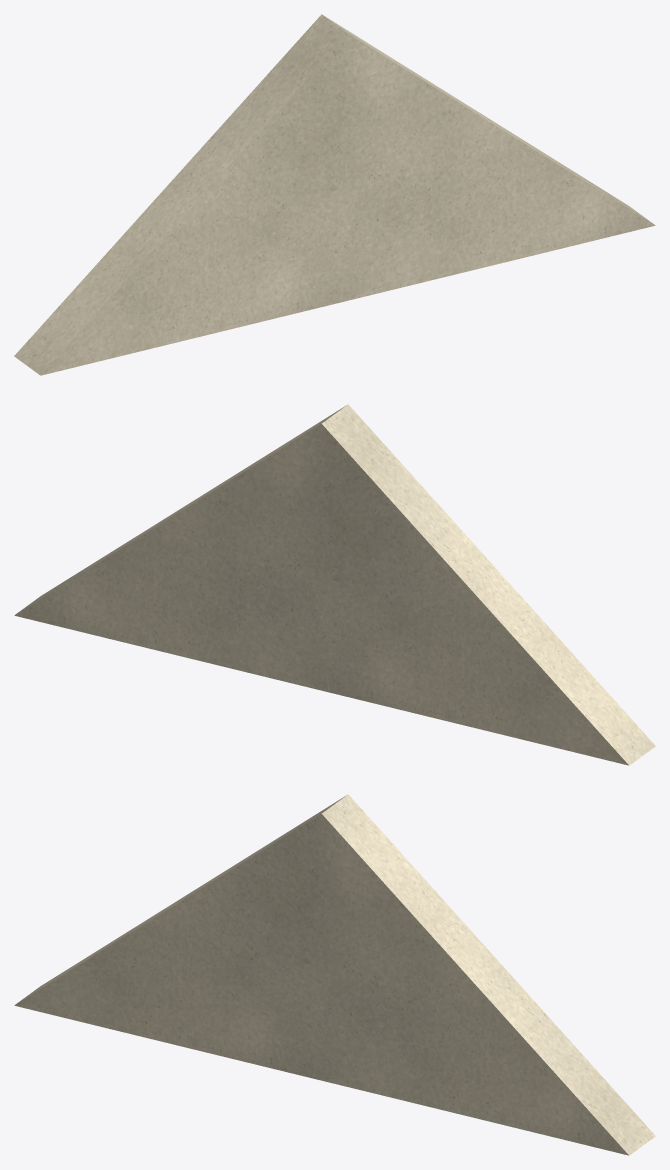
File: garage_back.glb
The picture shows the model from 3 angles, top to bottom: view 1: azimuth 30°, elevation 25°; view 2: azimuth 150°, elevation 25°; view 3: azimuth 330°, elevation 25°; orthographic projection.
Parts seen in each view (by area): view 1: garage_back_render; view 2: garage_back_render; view 3: garage_back_render.
Part boxes in pixels (x1,y1,x2,y2): garage_back_render: (14,14,655,375); garage_back_render: (14,404,655,765); garage_back_render: (14,794,655,1155).
Bounding box in the file's own units: 4 × 1.66 × 0.3.
Materials: 1 (1 with a texture image).
